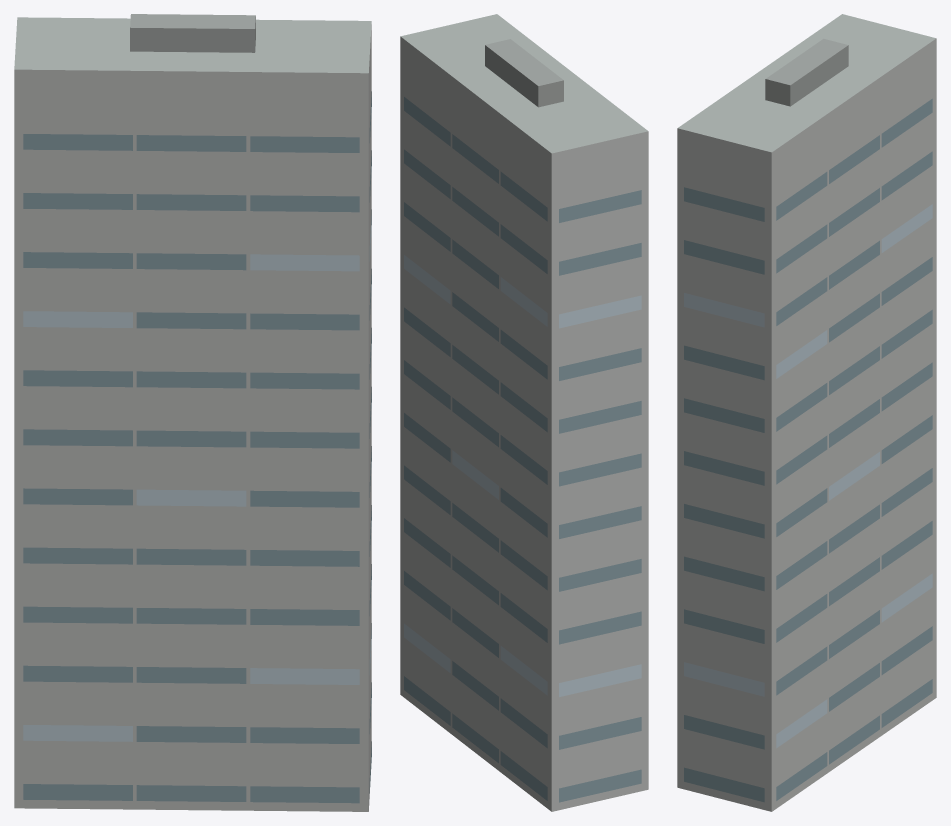
File: fallback-jamsil-ricenz-258.glb
3 renders of one model, left to right at view 1: azimuth 30°, elevation 25°; view 2: azimuth 150°, elevation 25°; view 3: azimuth 270°, elevation 25°, orthographic. The views are drawn at different scales.
Visible parts, largest first — view 1: fallback-jamsil-ricenz-258; view 2: fallback-jamsil-ricenz-258; view 3: fallback-jamsil-ricenz-258.
Part boxes in pixels (<box>): fallback-jamsil-ricenz-258: <box>14,14,371,811</box>; fallback-jamsil-ricenz-258: <box>400,14,648,811</box>; fallback-jamsil-ricenz-258: <box>677,14,936,811</box>.
Size of the model in its own units: 33.6 by 77 by 26.56.
